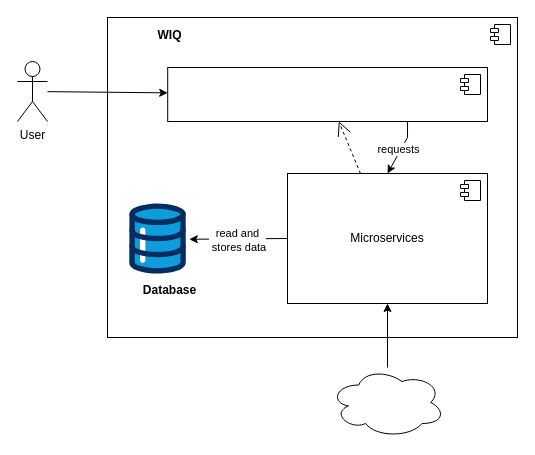
Image size: 535x455. Some labels were removed from this diagram. Here are the shapes that lost their labels. From the top down, the centre of each, then its label:
(327,94): Webapp
(387,402): Wikidata
